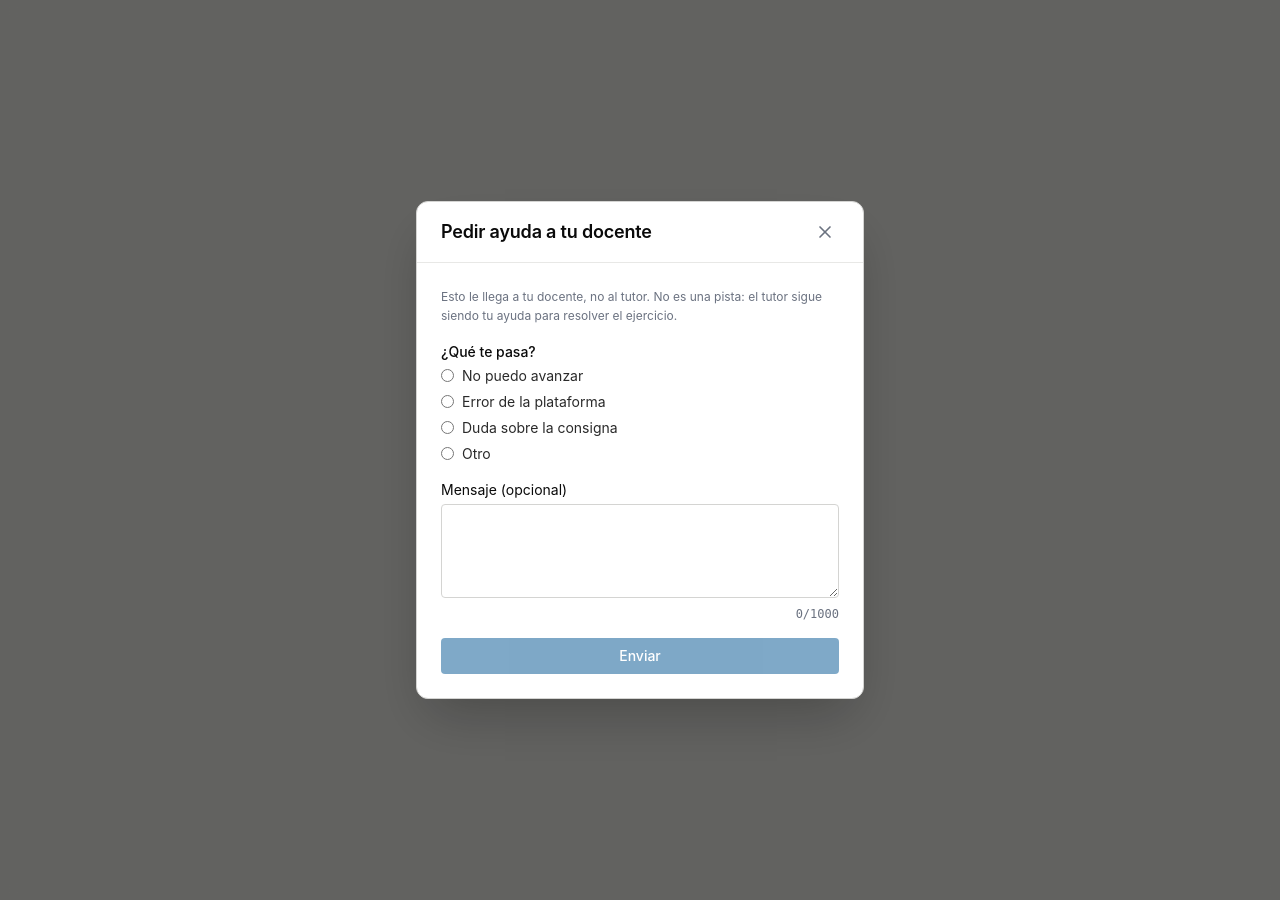
Test: PedirAyudaModal › manda categoria, mensaje y contexto a POST /api/v1/pedidos-ayuda
This screenshot has width=1280, height=900.
Click the radio button labelled "No puedo avanzar". click: (448, 376)
box: [441, 369, 454, 382]
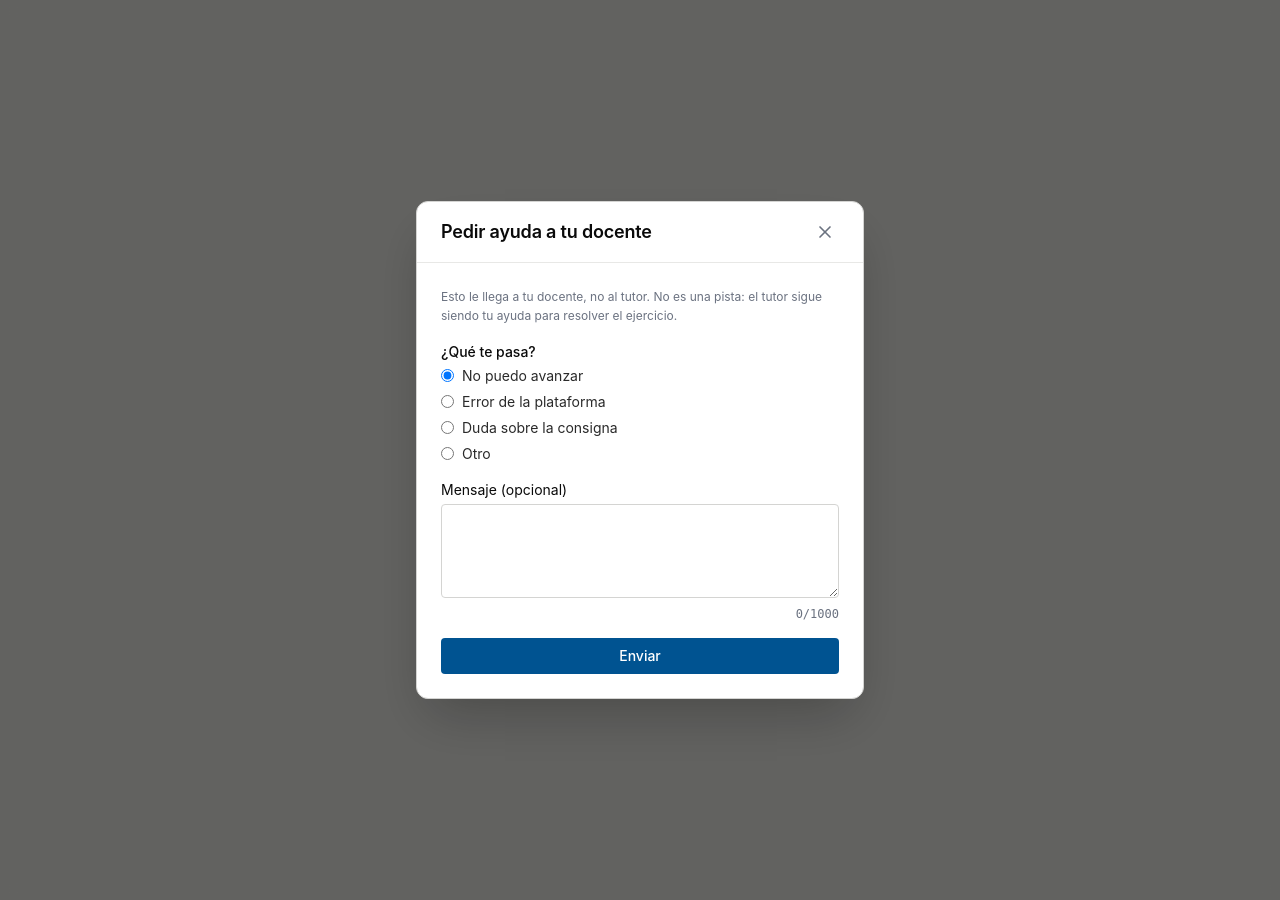
Type "no entiendo el while" into the text box labelled "Mensaje (opcional)". click: (640, 551)
box: [441, 504, 839, 598]
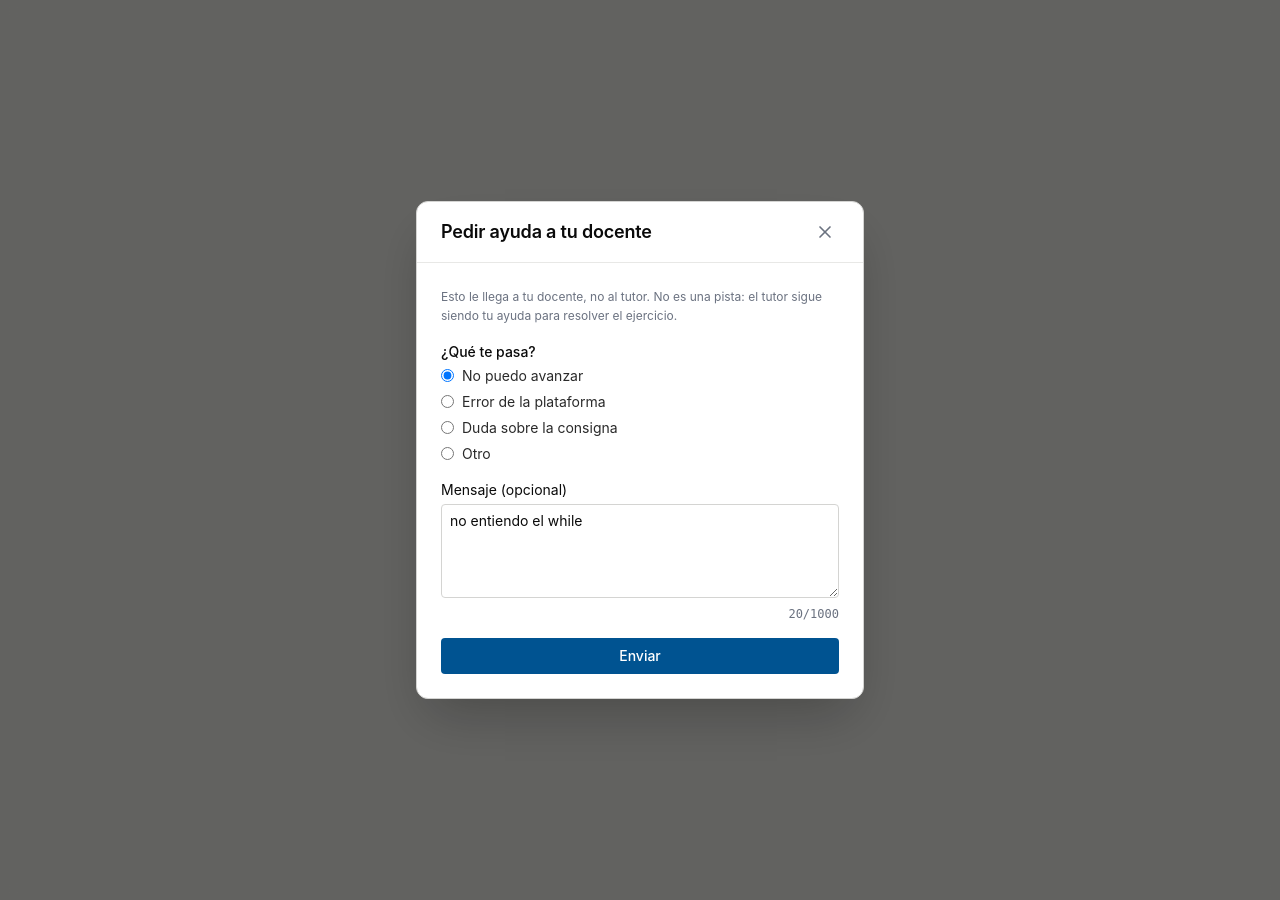
Click the button "Enviar". click: (640, 656)
box: [441, 638, 839, 674]
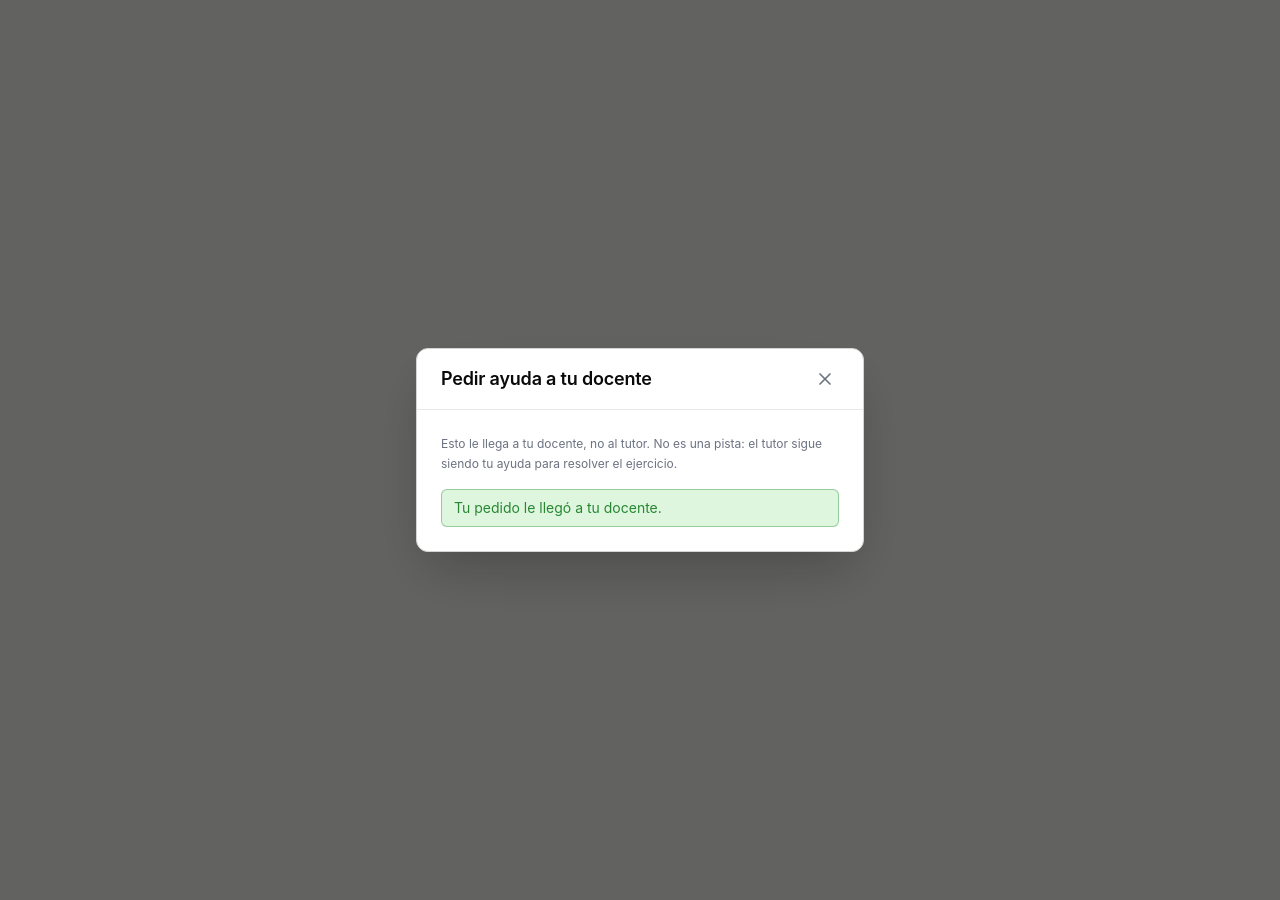
Expected: the text "Tu pedido le llegó a tu docente." is shown, [441, 489, 839, 527]
